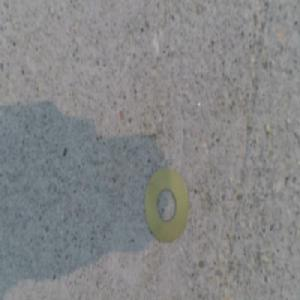Washer: (145, 166, 187, 241)
